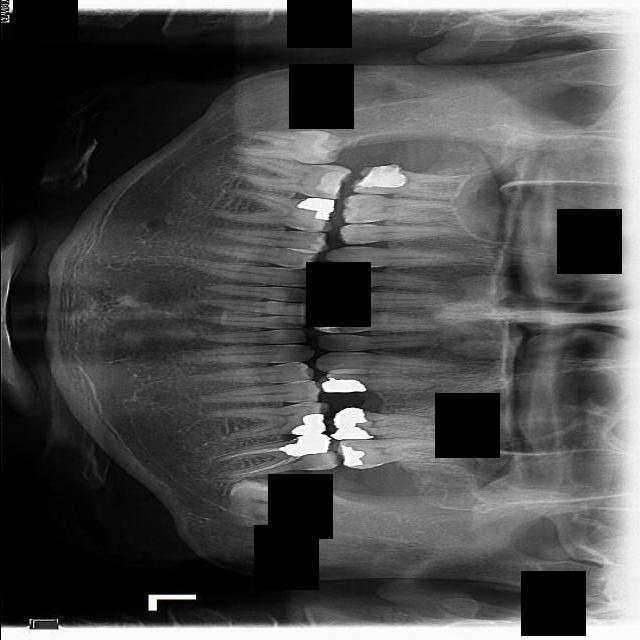74: (230, 453, 298, 483), (221, 447, 279, 458)
NucleOSS Implant: (328, 406, 373, 441), (277, 431, 333, 459), (296, 194, 335, 221), (291, 413, 324, 436), (336, 445, 365, 469), (323, 377, 365, 393)
Sterngold Implant: (350, 203, 368, 212), (293, 403, 315, 409), (293, 396, 310, 403), (298, 225, 317, 231), (304, 243, 316, 250), (353, 220, 366, 222)
Straumann Implant: (358, 163, 406, 189), (313, 165, 343, 198), (312, 312, 346, 332)
